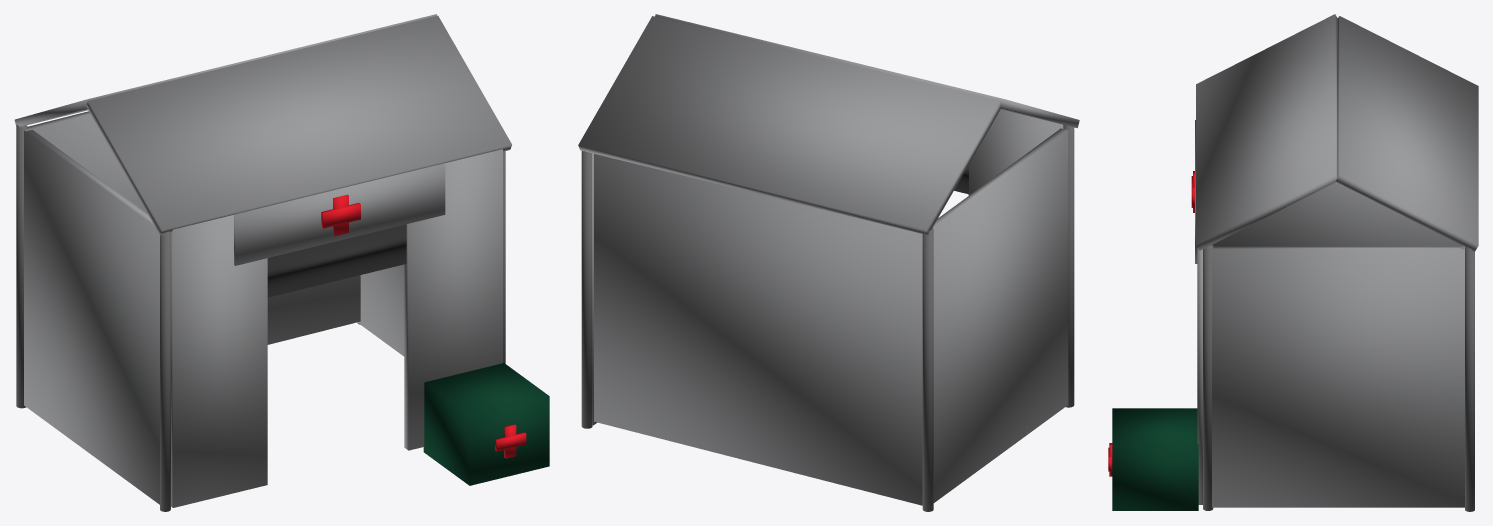
The model's file is medicaltent.glb.
3 views of the same model, side by side, from view 1: azimuth 30°, elevation 25°; view 2: azimuth 150°, elevation 25°; view 3: azimuth 270°, elevation 25° (orthographic). The views are drawn at different scales.
Parts seen in each view (by area): view 1: Left Roof, Left Wall, Left Curtain, Right Curtain, Medical Supply Crate, Banner, Back Wall, Dark Entrance, Right Wall, Tent Pole, Tent Pole.001, Right Roof (+2 smaller); view 2: Back Wall, Right Roof, Left Wall, Left Curtain, Tent Pole.001, Tent Pole.003, Left Roof, Tent Pole; view 3: Right Wall, Left Roof, Right Roof, Medical Supply Crate, Left Wall, Tent Pole.003, Tent Pole.002, Right Curtain.
Part boxes in pixels (left/top/right/bottom): Left Roof: left=86, top=15, right=511, bottom=235; Left Wall: left=24, top=130, right=159, bottom=504; Left Curtain: left=171, top=215, right=267, bottom=507; Right Curtain: left=404, top=149, right=502, bottom=450; Medical Supply Crate: left=423, top=362, right=549, bottom=485; Banner: left=234, top=163, right=445, bottom=265; Back Wall: left=25, top=111, right=360, bottom=344; Dark Entrance: left=267, top=224, right=406, bottom=297; Right Wall: left=357, top=264, right=404, bottom=356; Tent Pole: left=160, top=231, right=170, bottom=511; Tent Pole.001: left=16, top=125, right=27, bottom=408; Right Roof: left=14, top=14, right=436, bottom=126; Back Wall: left=594, top=154, right=922, bottom=505; Right Roof: left=578, top=16, right=1001, bottom=234; Left Wall: left=933, top=128, right=1068, bottom=502; Left Curtain: left=968, top=109, right=1063, bottom=195; Tent Pole.001: left=922, top=228, right=933, bottom=511; Tent Pole.003: left=581, top=151, right=592, bottom=428; Left Roof: left=655, top=14, right=1079, bottom=128; Tent Pole: left=1063, top=124, right=1074, bottom=407; Right Wall: left=1212, top=246, right=1464, bottom=507; Left Roof: left=1196, top=14, right=1337, bottom=250; Right Roof: left=1335, top=16, right=1478, bottom=251; Medical Supply Crate: left=1112, top=408, right=1198, bottom=510; Left Wall: left=1212, top=182, right=1461, bottom=246; Tent Pole.003: left=1465, top=247, right=1474, bottom=511; Tent Pole.002: left=1203, top=244, right=1213, bottom=510; Right Curtain: left=1197, top=247, right=1202, bottom=504.
Size of the model in its own units: 3.35 by 3.3 by 3.25.
